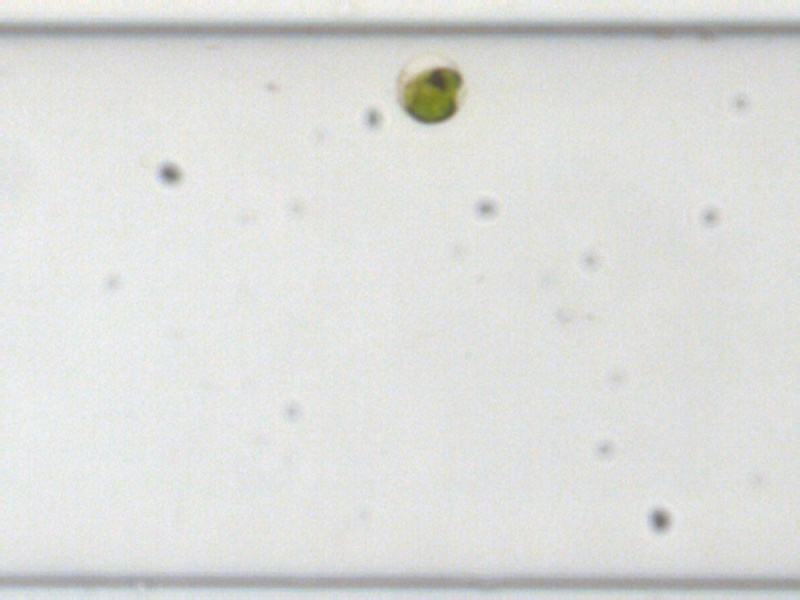Platymonas: (396, 64, 464, 127)
